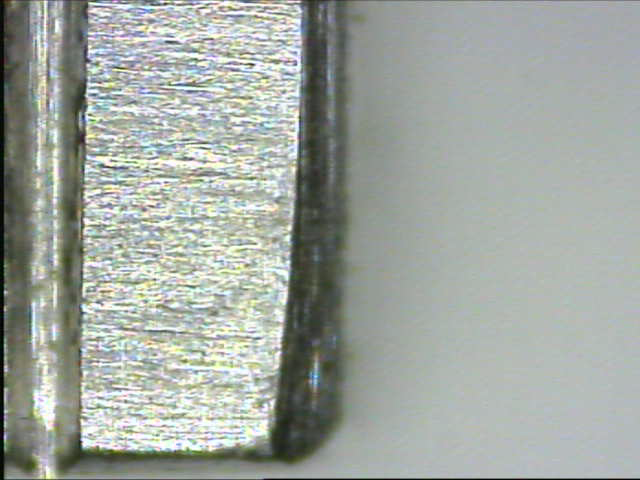edge: (272, 1, 356, 470)
